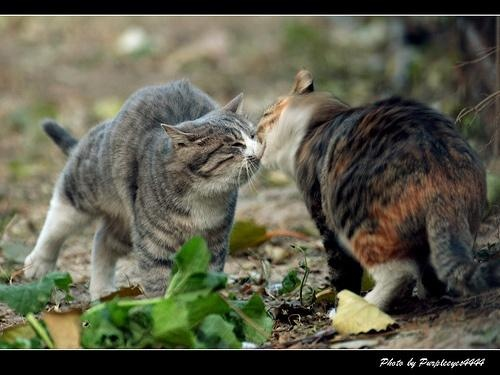cat: (254, 66, 498, 326), (19, 73, 264, 305)
